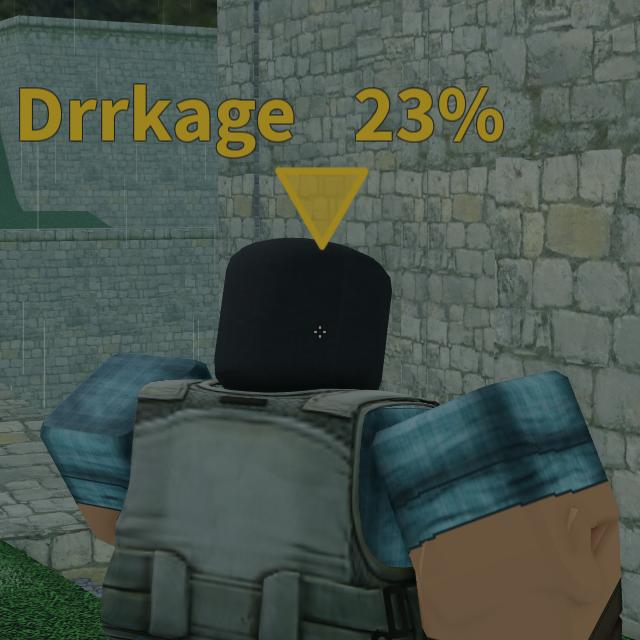Head: (217, 240, 388, 389)
Player: (42, 239, 632, 640)
